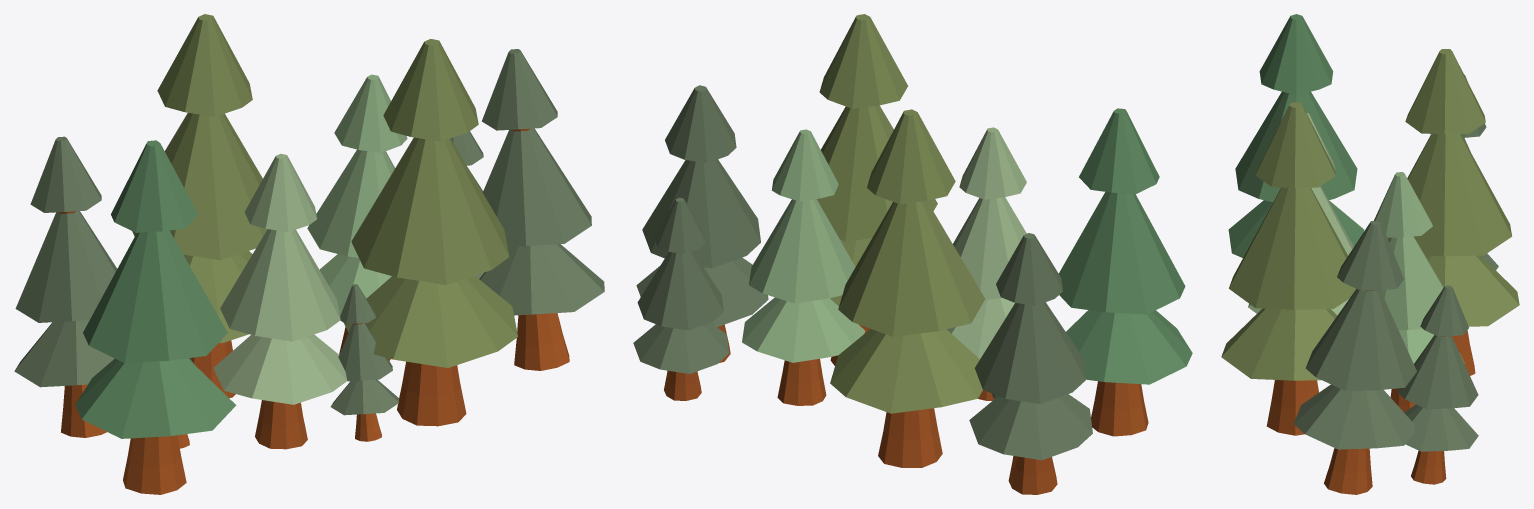
File: tree.glb
3 renders of one model, left to right at view 1: azimuth 30°, elevation 25°; view 2: azimuth 150°, elevation 25°; view 3: azimuth 270°, elevation 25°, orthographic. The views are drawn at different scales.
Parts seen in each view (by area): view 1: Icosphere.003, Icosphere, Icosphere.001, Icosphere.009, Icosphere.002, Icosphere.004, Icosphere.005, Icosphere.007, Icosphere.008; view 2: Icosphere.002, Icosphere, Icosphere.004, Icosphere.005, Icosphere.009, Icosphere.003, Icosphere.008, Icosphere.001; view 3: Icosphere.003, Icosphere.009, Icosphere.002, Icosphere, Icosphere.008, Icosphere.005, Icosphere.001.
Boxes of the visible parts, left/top/right/bottom form: Icosphere.003: left=344, top=39, right=517, bottom=426; Icosphere: left=75, top=140, right=236, bottom=494; Icosphere.001: left=213, top=153, right=347, bottom=449; Icosphere.009: left=479, top=49, right=604, bottom=370; Icosphere.002: left=132, top=14, right=267, bottom=398; Icosphere.004: left=14, top=136, right=116, bottom=437; Icosphere.005: left=307, top=74, right=407, bottom=360; Icosphere.007: left=330, top=284, right=398, bottom=441; Icosphere.008: left=451, top=131, right=484, bottom=278; Icosphere.002: left=830, top=109, right=985, bottom=467; Icosphere: left=1058, top=108, right=1192, bottom=436; Icosphere.004: left=969, top=233, right=1092, bottom=494; Icosphere.005: left=742, top=129, right=865, bottom=405; Icosphere.009: left=636, top=85, right=768, bottom=362; Icosphere.003: left=817, top=14, right=937, bottom=365; Icosphere.008: left=633, top=197, right=729, bottom=400; Icosphere.001: left=947, top=127, right=1026, bottom=400; Icosphere.003: left=1221, top=102, right=1355, bottom=435; Icosphere.009: left=1294, top=220, right=1416, bottom=494; Icosphere.002: left=1387, top=49, right=1519, bottom=375; Icosphere: left=1228, top=14, right=1364, bottom=257; Icosphere.008: left=1397, top=285, right=1478, bottom=484; Icosphere.005: left=1374, top=172, right=1464, bottom=412; Icosphere.001: left=1248, top=113, right=1353, bottom=315.
Bounding box in the file's own units: 3.37 × 2.25 × 1.85.
